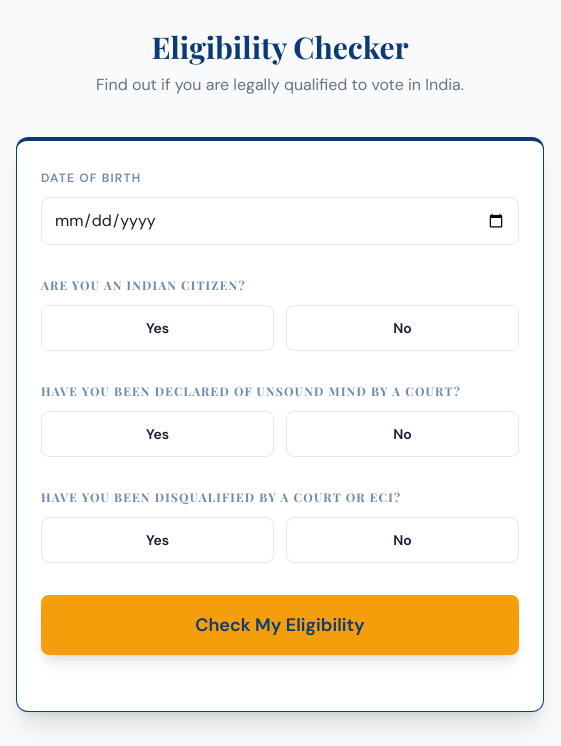
Scenario: Eligibility Page › shows incorrect message for citizen=No
Type "2000-01-01" into the date field labelled "Date of Birth".
click(280, 221); type("2000-01-01")  # box [41,197,519,245]
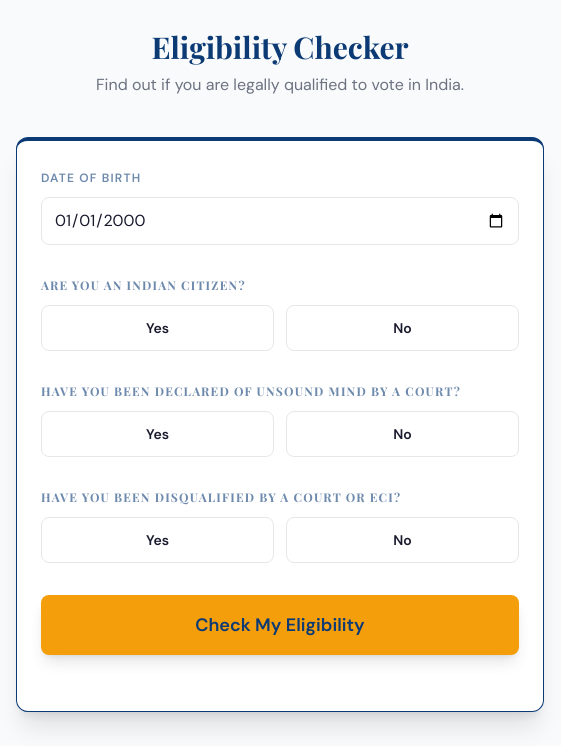
Click the radio button with aria-label "no for Are you an Indian Citizen?".
click(402, 328)  # box [286,305,519,351]
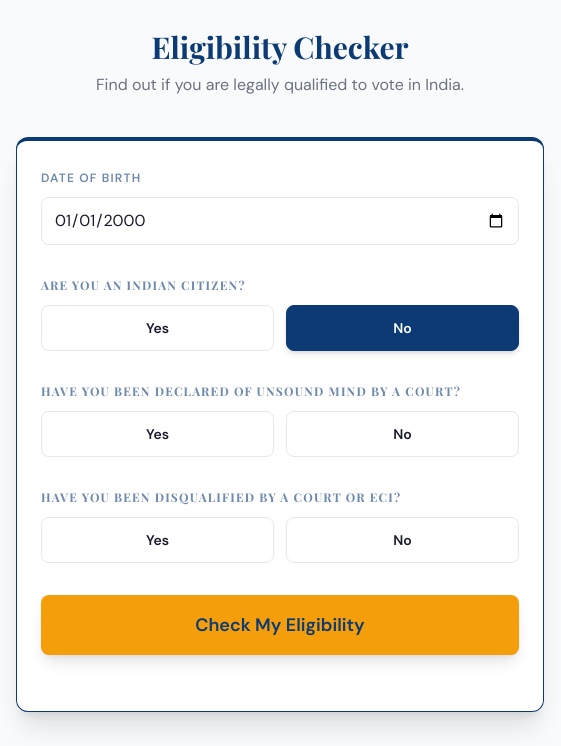
Click the button "Check My Eligibility".
click(280, 625)  # box [41,595,519,655]
(page scrolled)
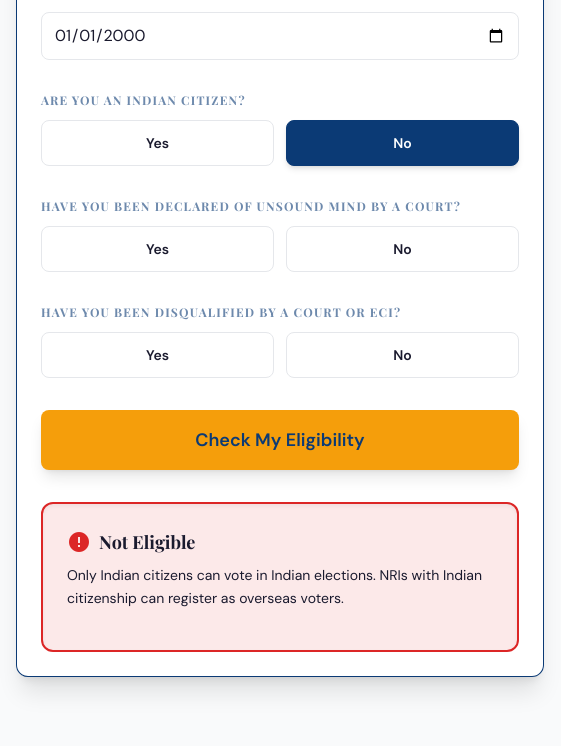
Check: the heading "Not Eligible" is shown, box [99,528,195,556]
Check: the text "Only Indian citizens can vote" is shown, box [67,566,482,607]
